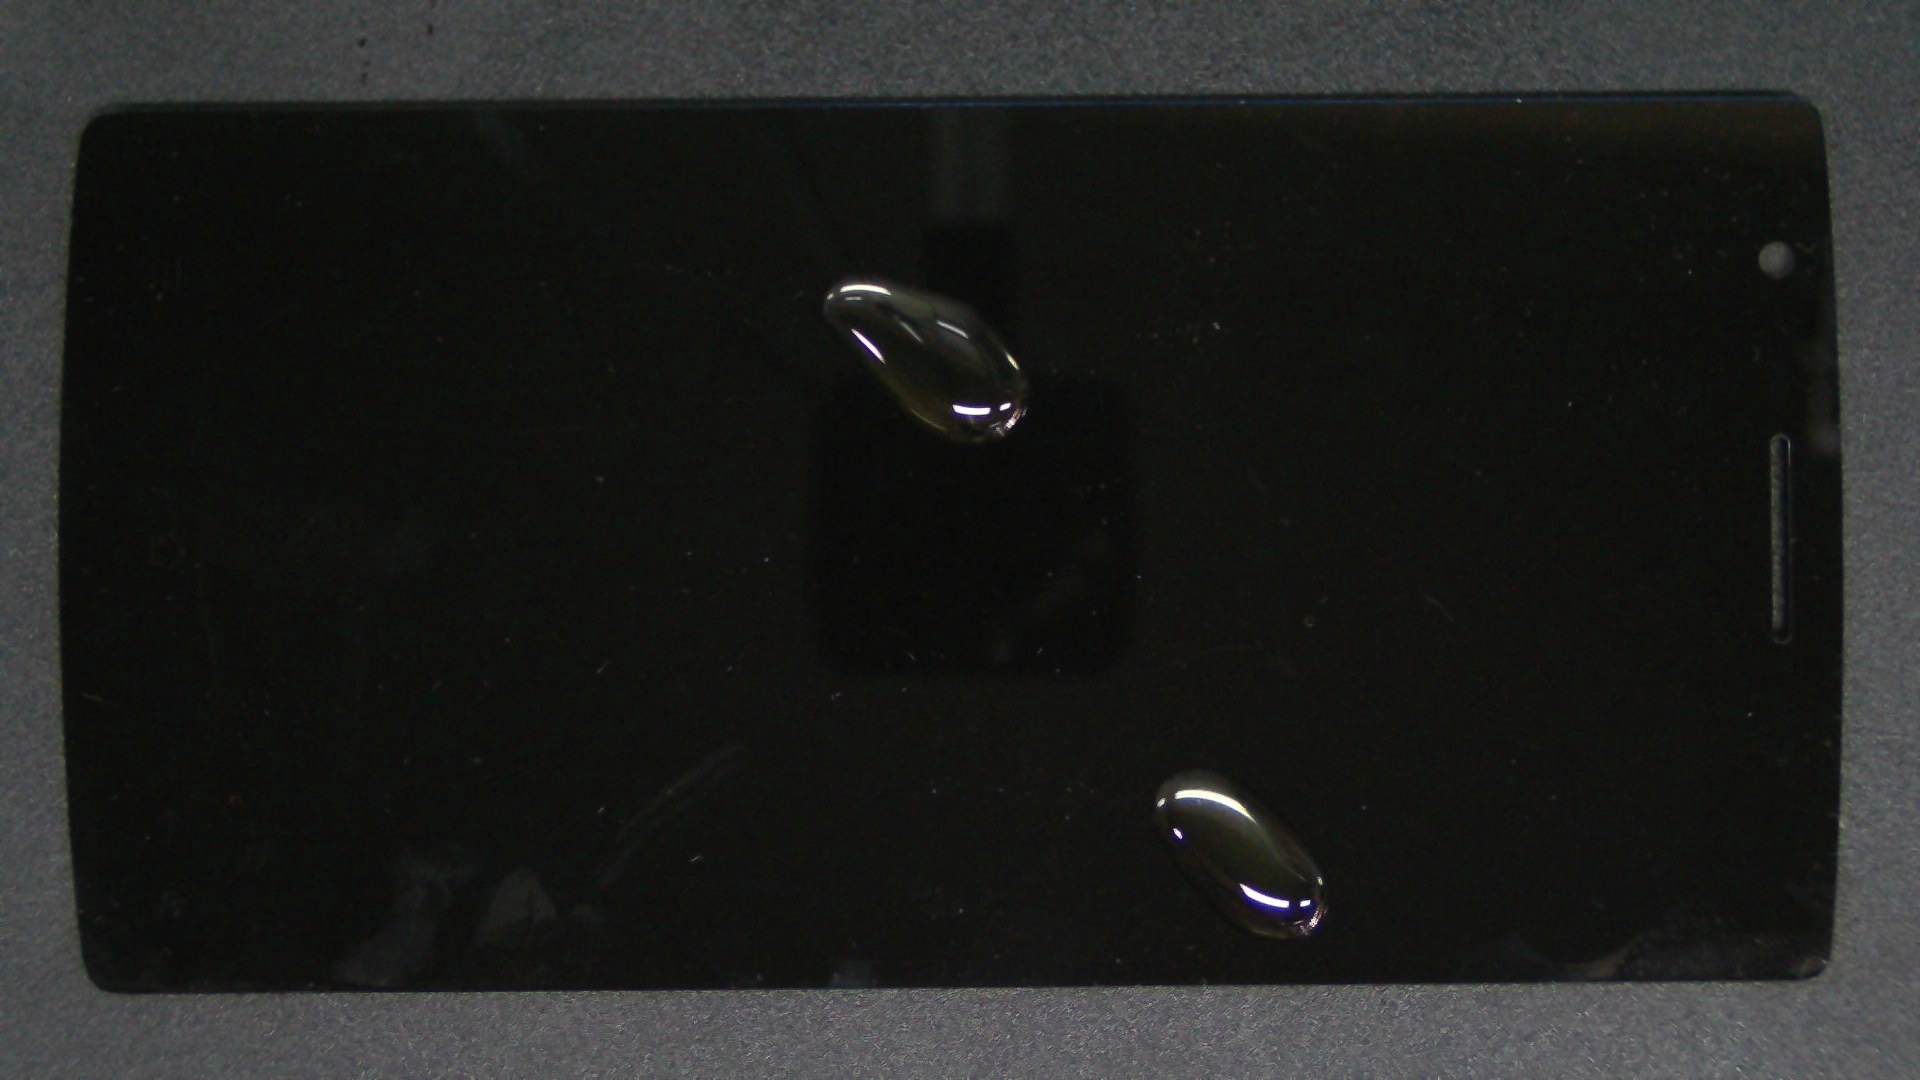oil: (593, 385, 1779, 1080), (435, 138, 1304, 415)
